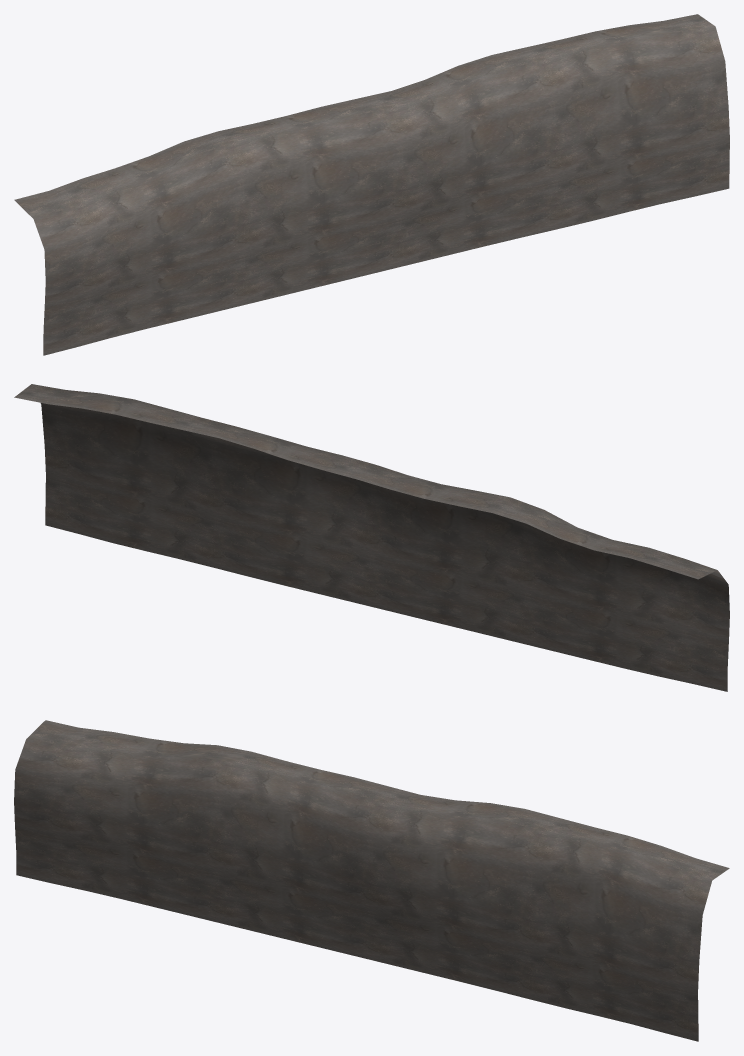
The model's file is CliffWall.fbx.
3 renders of one model, top to bottom at view 1: azimuth 30°, elevation 25°; view 2: azimuth 150°, elevation 25°; view 3: azimuth 330°, elevation 25°, orthographic.
Parts seen in each view (by area): view 1: CliffWall; view 2: CliffWall; view 3: CliffWall.
Boxes of the visible parts, <box> form: CliffWall: <box>14,14,729,355</box>; CliffWall: <box>14,384,729,691</box>; CliffWall: <box>14,720,729,1041</box>.
Size of the model in its own units: 28.37 by 6.4 by 2.47.
1 material, 1 textured.
